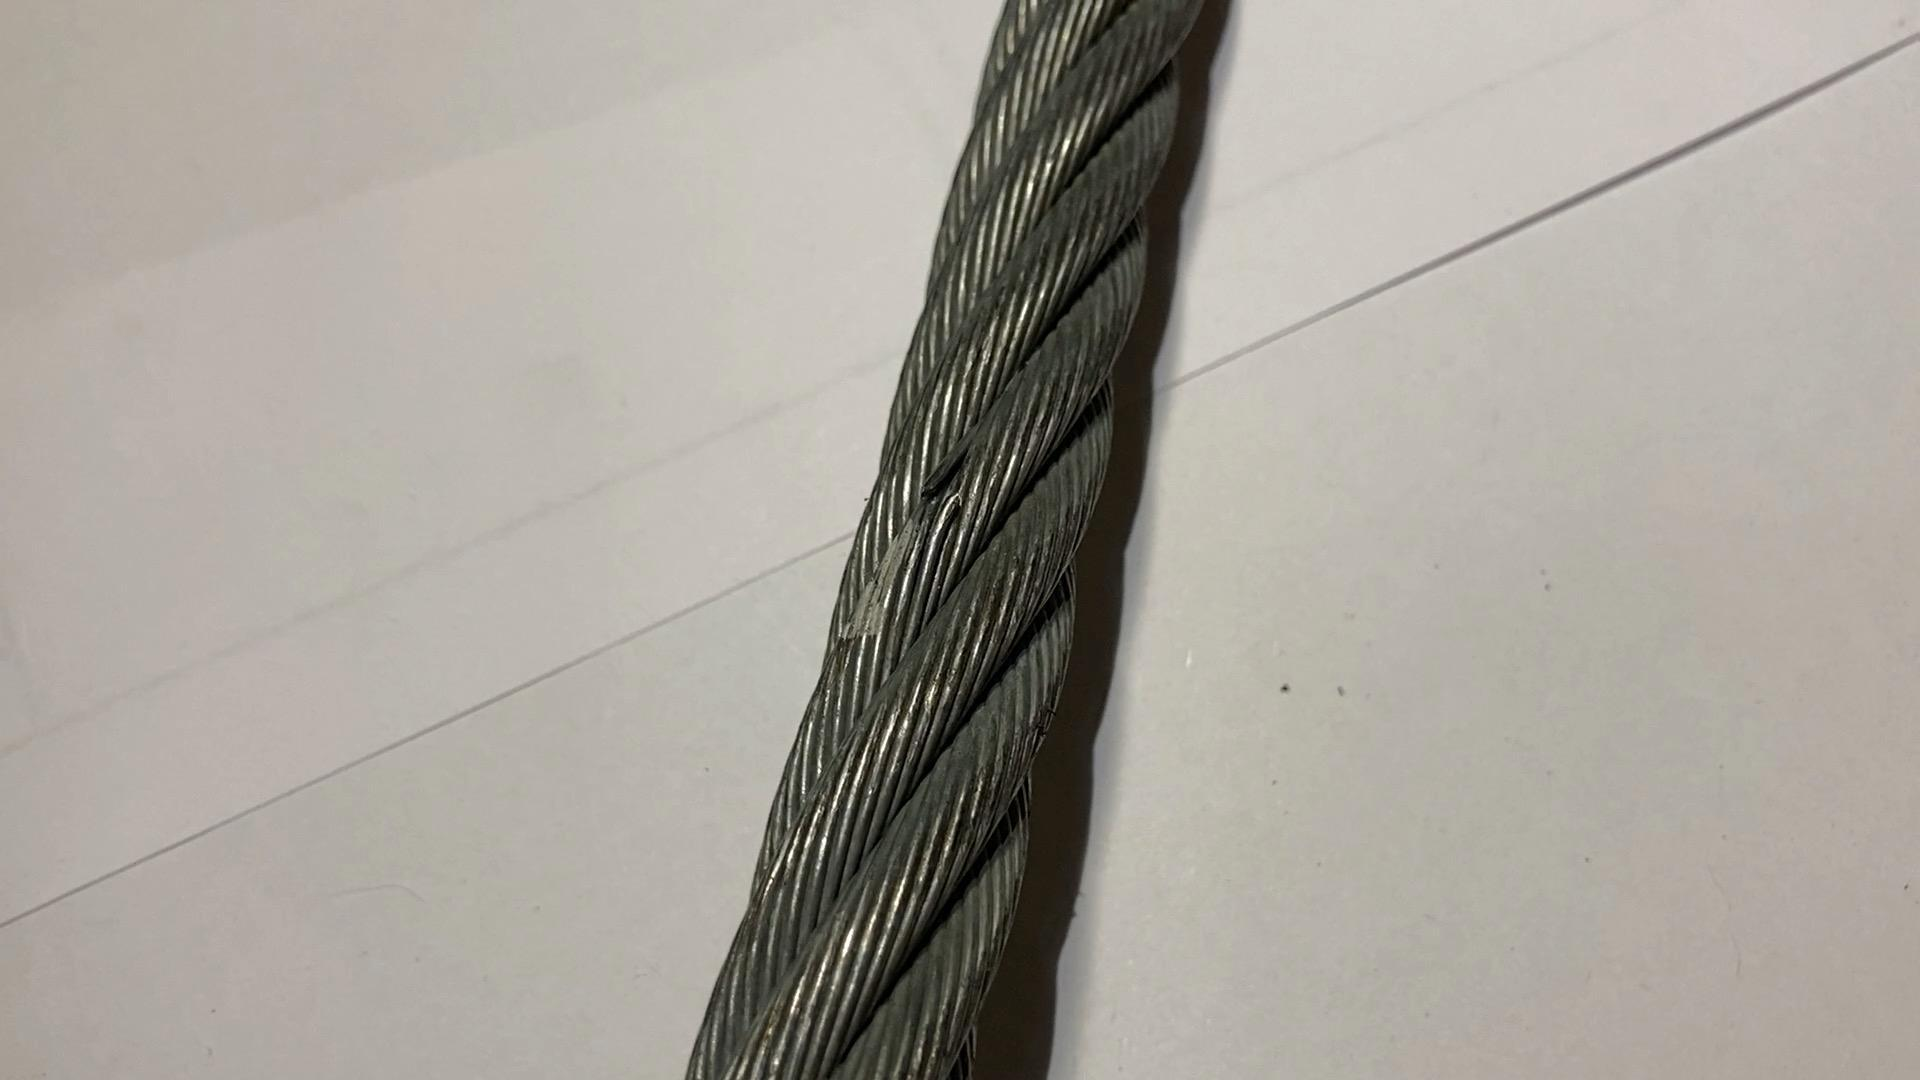break: (911, 458, 982, 522)
